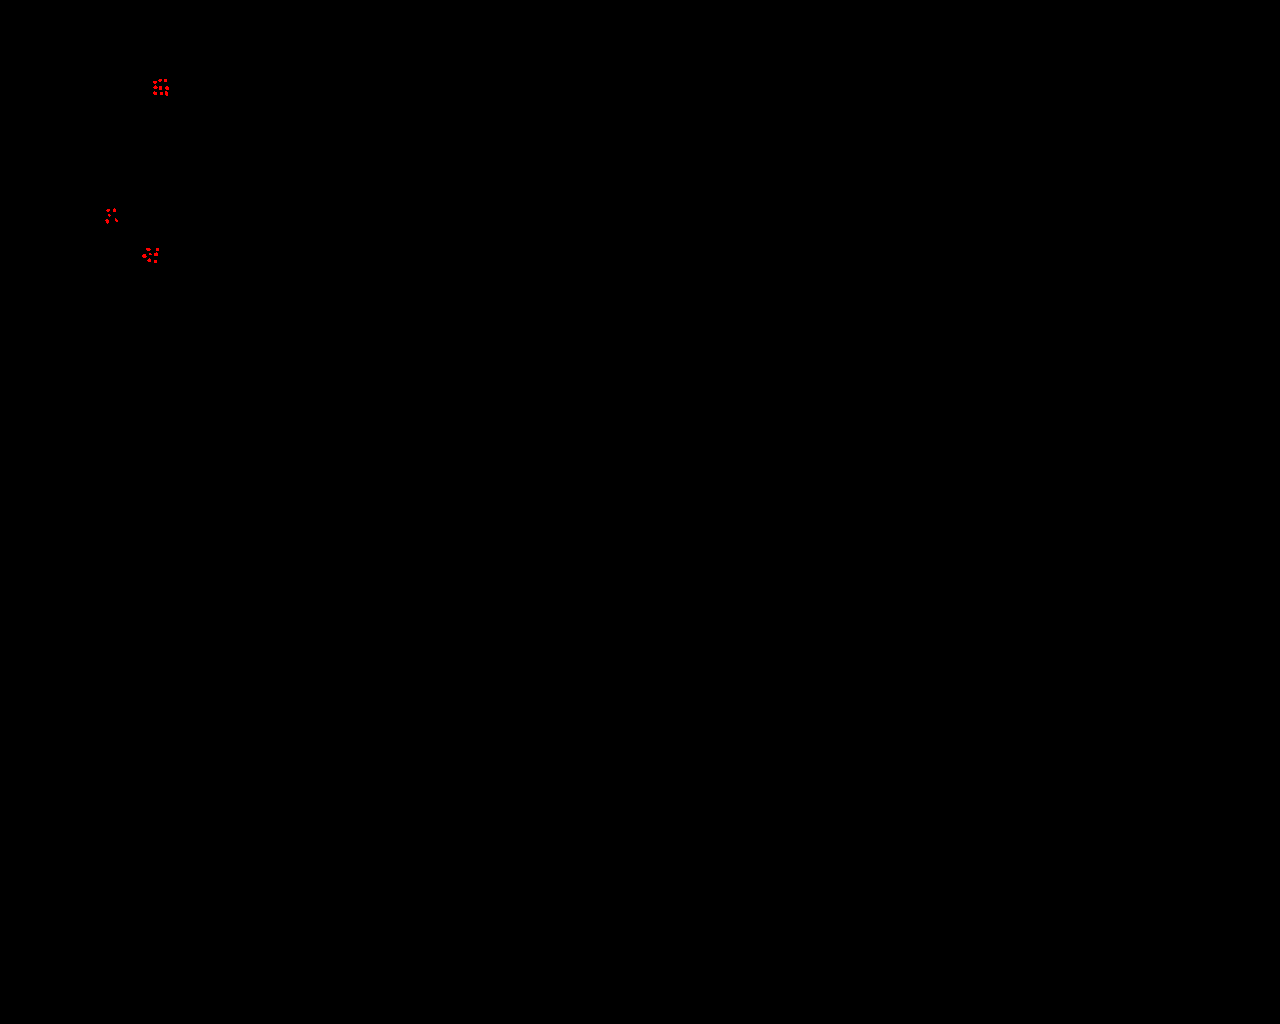Target: (153, 85, 158, 89), (142, 254, 147, 258), (165, 86, 169, 90), (153, 91, 157, 95), (104, 219, 109, 224), (154, 252, 158, 256), (147, 258, 152, 262), (165, 91, 168, 96), (146, 248, 152, 251), (159, 86, 162, 90), (113, 208, 116, 212), (106, 209, 110, 212), (160, 92, 163, 95), (108, 214, 111, 217), (115, 218, 118, 222), (156, 248, 159, 251), (154, 260, 157, 263), (158, 79, 162, 82), (153, 82, 157, 84), (164, 79, 167, 82), (149, 253, 152, 255)
